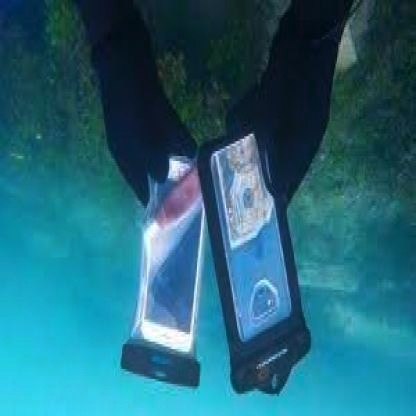cellphone: (211, 128, 298, 352), (142, 146, 206, 364)
